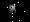person: (10, 5, 17, 14)
